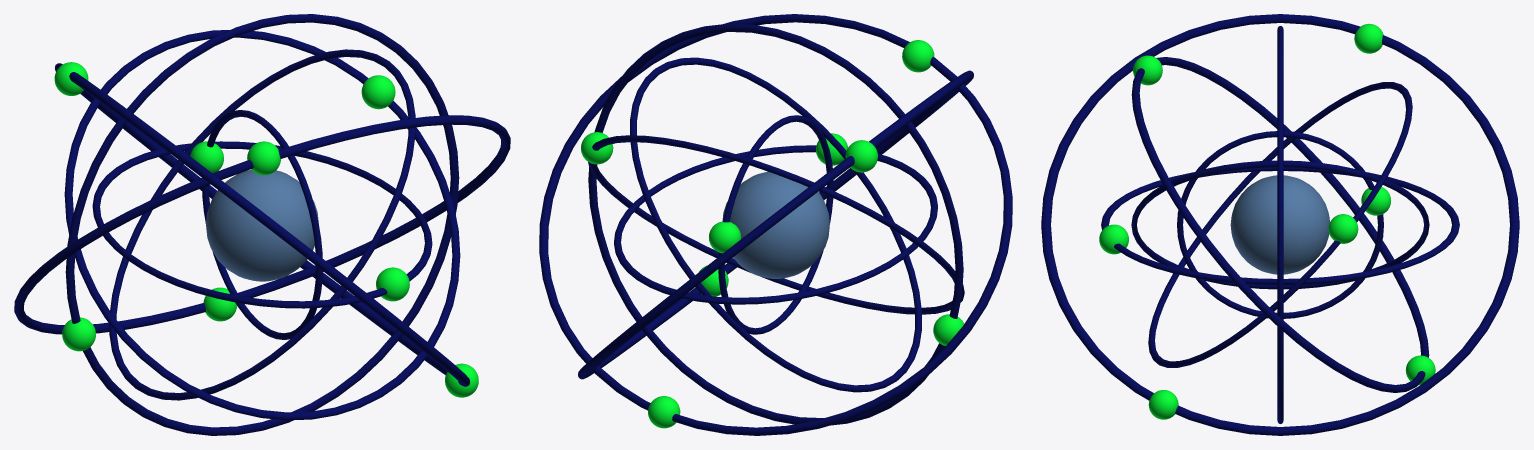
The model's file is atom2.glb.
The picture shows the model from 3 angles, left to right: view 1: azimuth 30°, elevation 25°; view 2: azimuth 150°, elevation 25°; view 3: azimuth 270°, elevation 25°; orthographic projection. The views are drawn at different scales.
Visible parts, largest first — view 1: Torus.005, Torus.002, Torus.001, Sphere, Torus.003, Torus.004, Torus, Torus.006, Sphere.001, Sphere.004, Sphere.008, Sphere.005 (+4 smaller); view 2: Torus.002, Torus.005, Sphere, Torus.003, Torus.004, Torus.001, Torus, Torus.006, Sphere.004, Sphere.003, Sphere.002, Sphere.007 (+3 smaller); view 3: Torus.003, Torus.002, Sphere, Torus.001, Torus, Torus.004, Torus.006, Torus.005, Sphere.001, Sphere.006, Sphere.002, Sphere.005 (+3 smaller).
Boxes of the visible parts, left/top/right/bottom form: Torus.005: left=65, top=14, right=459, bottom=435; Torus.002: left=14, top=115, right=510, bottom=334; Torus.001: left=64, top=30, right=460, bottom=420; Sphere: left=206, top=169, right=318, bottom=281; Torus.003: left=55, top=63, right=469, bottom=386; Torus.004: left=109, top=49, right=415, bottom=400; Torus: left=92, top=141, right=432, bottom=308; Torus.006: left=202, top=110, right=322, bottom=339; Sphere.001: left=361, top=75, right=395, bottom=109; Sphere.004: left=247, top=141, right=280, bottom=175; Sphere.008: left=62, top=317, right=95, bottom=351; Sphere.005: left=376, top=267, right=409, bottom=301; Torus.002: left=539, top=14, right=1012, bottom=435; Torus.005: left=588, top=23, right=963, bottom=425; Sphere: left=722, top=171, right=829, bottom=278; Torus.003: left=578, top=70, right=973, bottom=379; Torus.004: left=630, top=57, right=921, bottom=392; Torus.001: left=588, top=135, right=964, bottom=314; Torus: left=614, top=145, right=937, bottom=304; Torus.006: left=718, top=115, right=833, bottom=334; Sphere.004: left=902, top=40, right=934, bottom=72; Sphere.003: left=648, top=396, right=680, bottom=428; Sphere.002: left=845, top=140, right=877, bottom=172; Sphere.007: left=709, top=221, right=740, bottom=253; Torus.003: left=1041, top=14, right=1519, bottom=435; Torus.002: left=1131, top=57, right=1429, bottom=392; Sphere: left=1230, top=175, right=1329, bottom=274; Torus.001: left=1148, top=82, right=1412, bottom=367; Torus: left=1101, top=167, right=1459, bottom=284; Torus.004: left=1131, top=160, right=1429, bottom=289; Torus.006: left=1177, top=131, right=1383, bottom=318; Torus.005: left=1277, top=26, right=1283, bottom=423; Sphere.001: left=1328, top=214, right=1358, bottom=243; Sphere.006: left=1148, top=390, right=1178, bottom=419; Sphere.002: left=1354, top=23, right=1383, bottom=53; Sphere.005: left=1099, top=224, right=1128, bottom=254.
Size of the model in its own units: 6.19 by 5.2 by 6.24.
